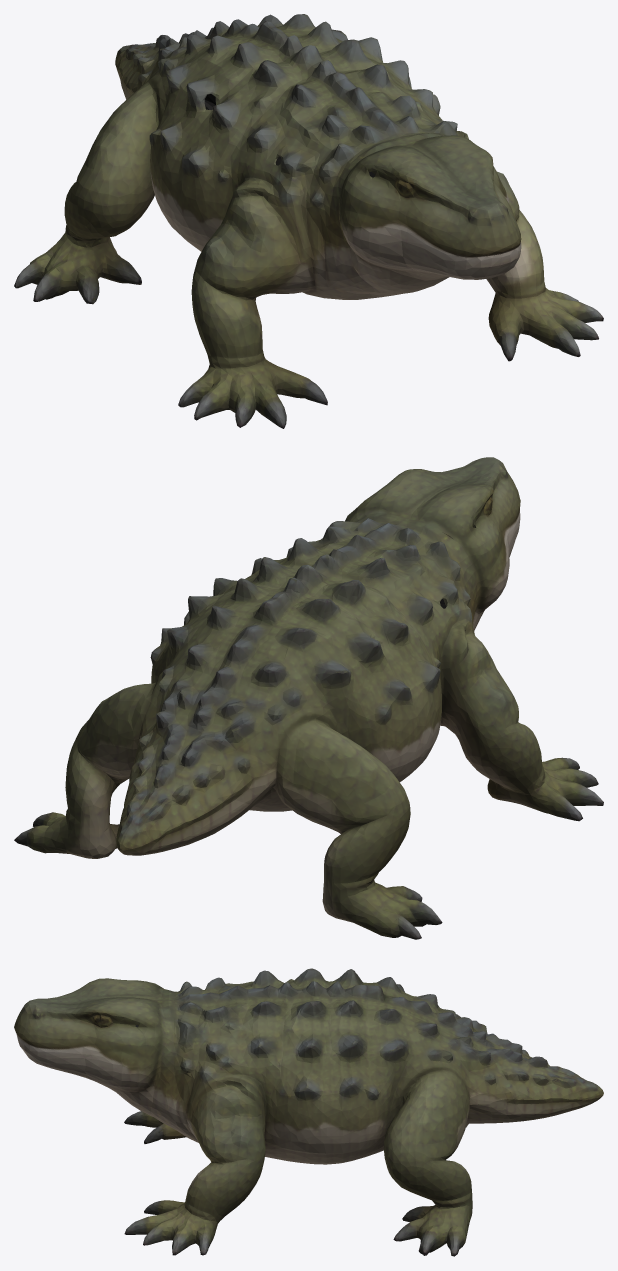
3 renders of one model, top to bottom at view 1: azimuth 30°, elevation 25°; view 2: azimuth 150°, elevation 25°; view 3: azimuth 270°, elevation 25°, orthographic. The views are drawn at different scales.
Parts seen in each view (by area): view 1: world; view 2: world; view 3: world.
Boxes of the visible parts, x1,y1,x2,y2 form: world: (14, 14, 603, 428); world: (14, 457, 603, 939); world: (14, 968, 603, 1256).
Bounding box in the file's own units: 0.6107 × 0.3753 × 0.993.
1 material, 1 textured.
